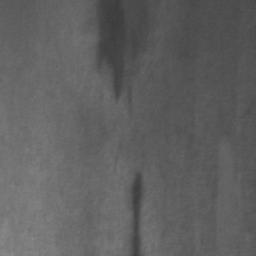Inclusion: (97, 0, 127, 100), (131, 173, 143, 256)
